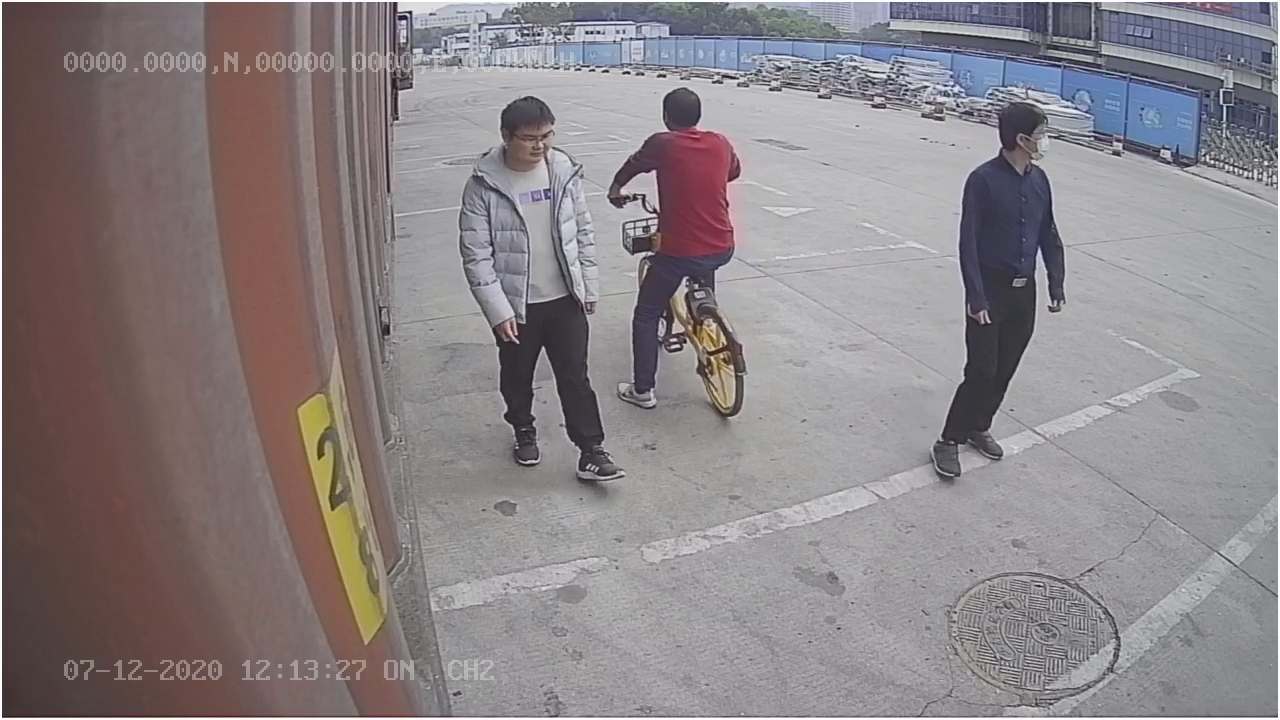person: (459, 97, 627, 486), (930, 100, 1068, 486)
